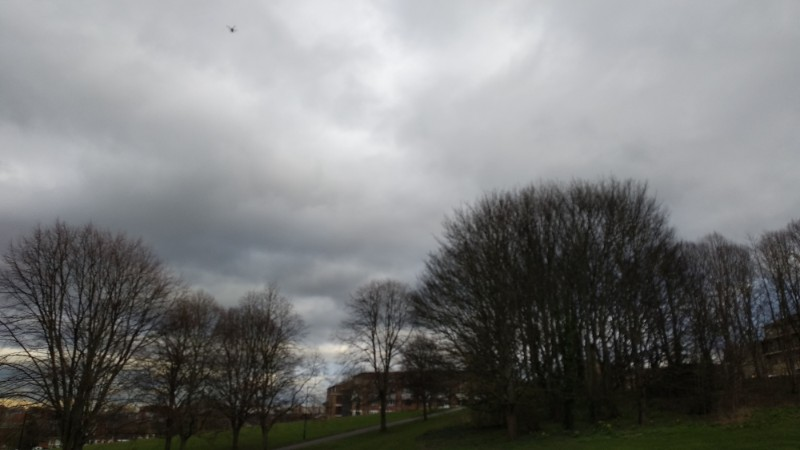drone: (228, 25, 237, 33)
